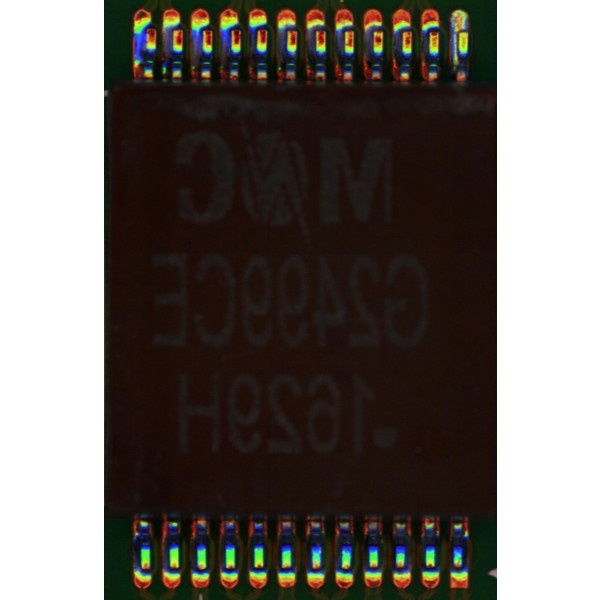Bad_podu: (458, 22, 466, 36)
Bad_qiaojiao: (451, 34, 458, 70)
